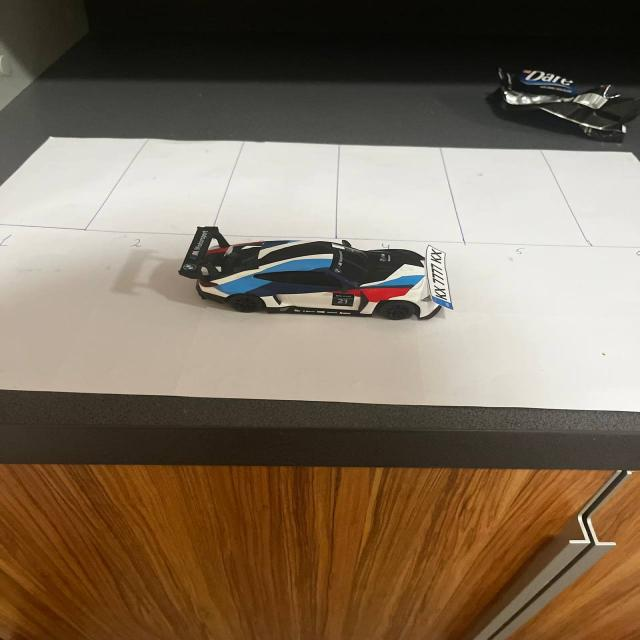KX 7777 KX: (428, 242, 462, 312)
